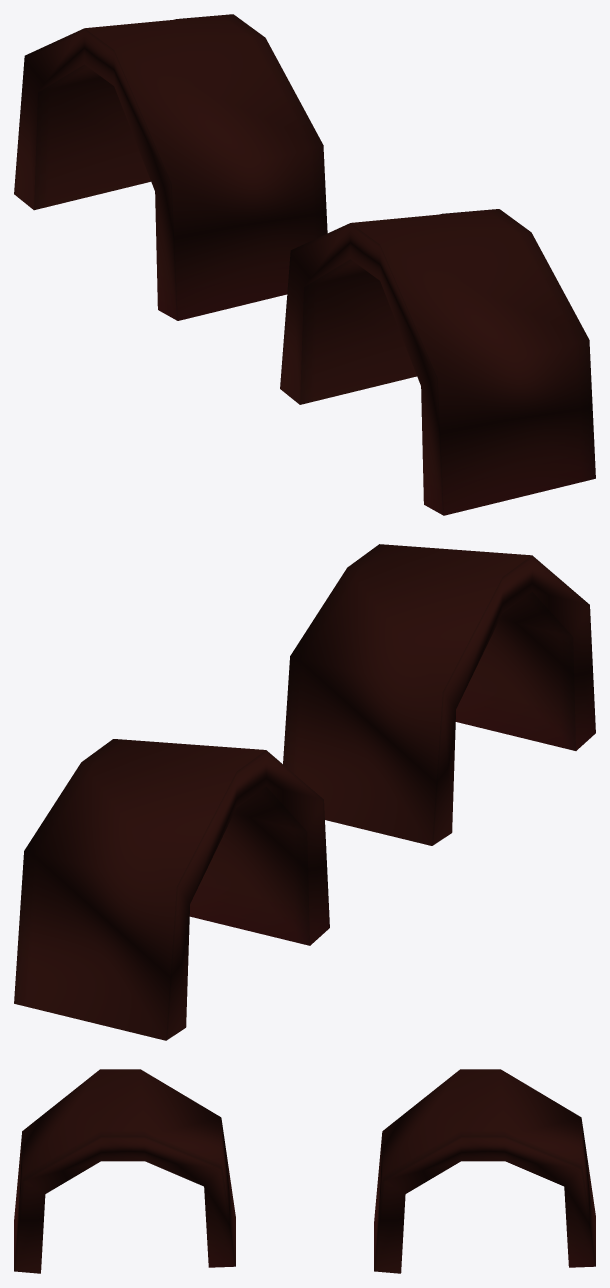
File: Bridles_2.fbx
3 views of the same model, one above another, from view 1: azimuth 30°, elevation 25°; view 2: azimuth 150°, elevation 25°; view 3: azimuth 270°, elevation 25° (orthographic). The views are drawn at different scales.
Visible parts, largest first — view 1: Bridle_001, Bridle; view 2: Bridle, Bridle_001; view 3: Bridle_001, Bridle.
Boxes of the visible parts, box(x1,y1,x2,y2) form: Bridle_001: box(280, 209, 595, 515); Bridle: box(14, 14, 327, 320); Bridle: box(14, 739, 329, 1040); Bridle_001: box(283, 544, 595, 845); Bridle_001: box(14, 1069, 235, 1273); Bridle: box(374, 1069, 595, 1273).
Size of the model in its own units: 95.1 by 136 by 465.
